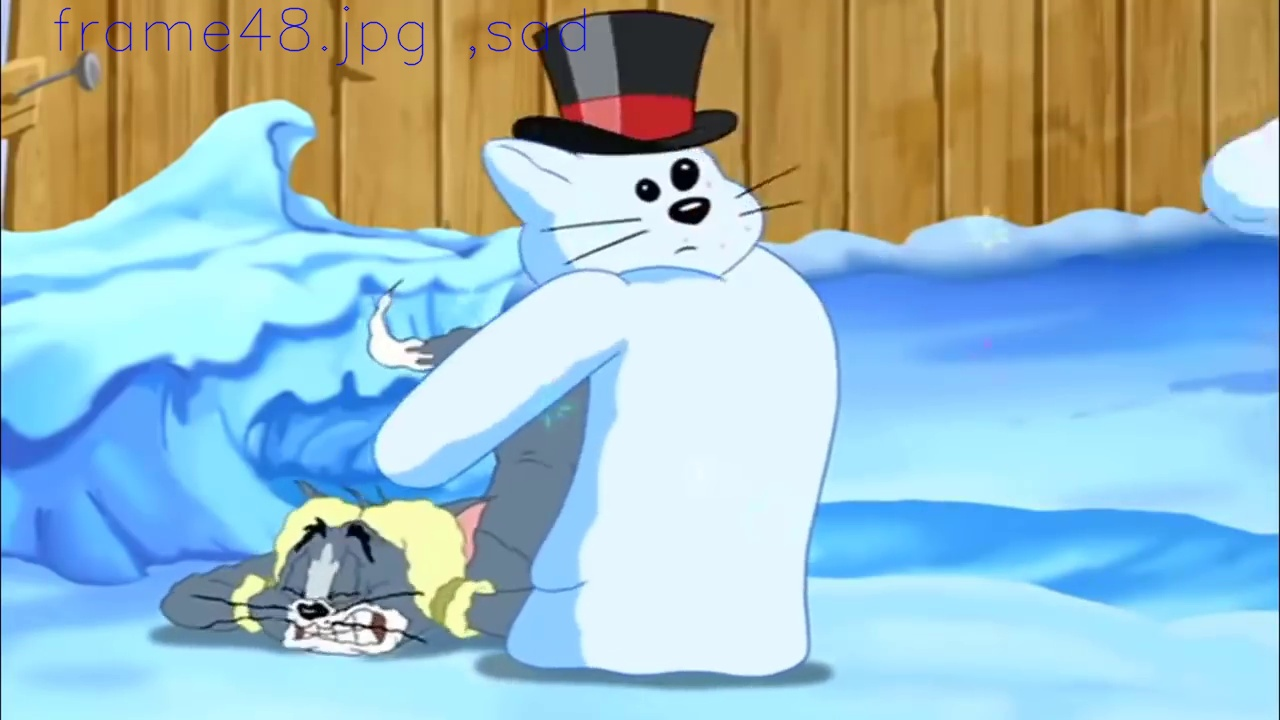sad: (281, 520, 391, 655)
